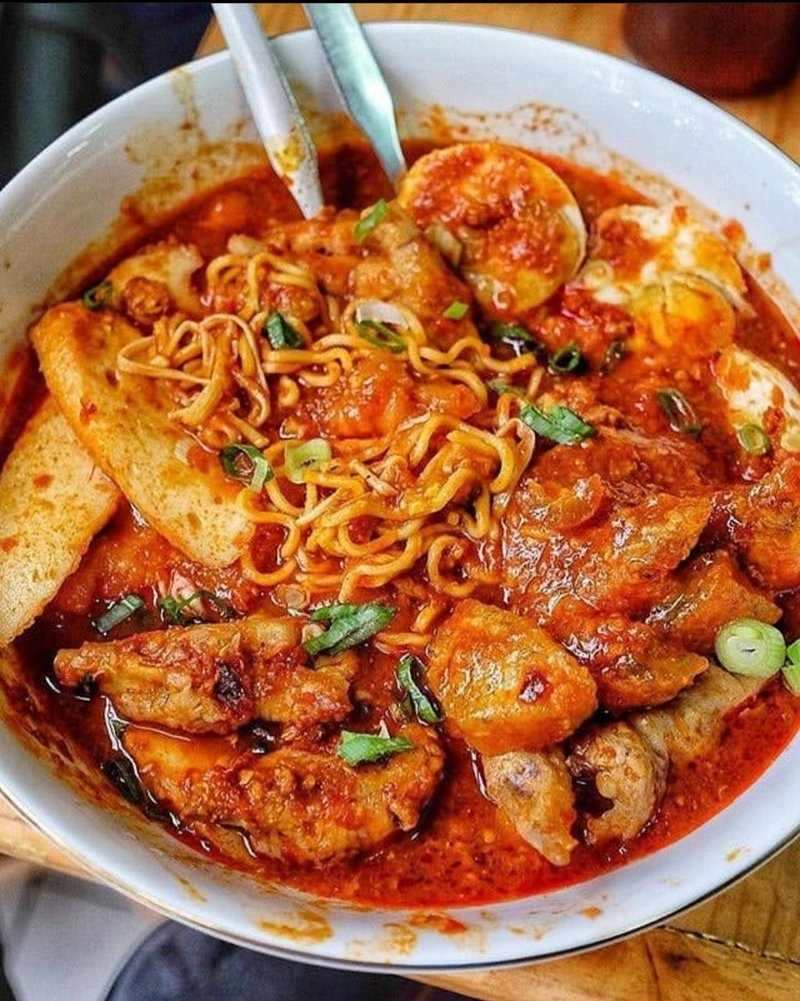seblak: (3, 143, 800, 911)
